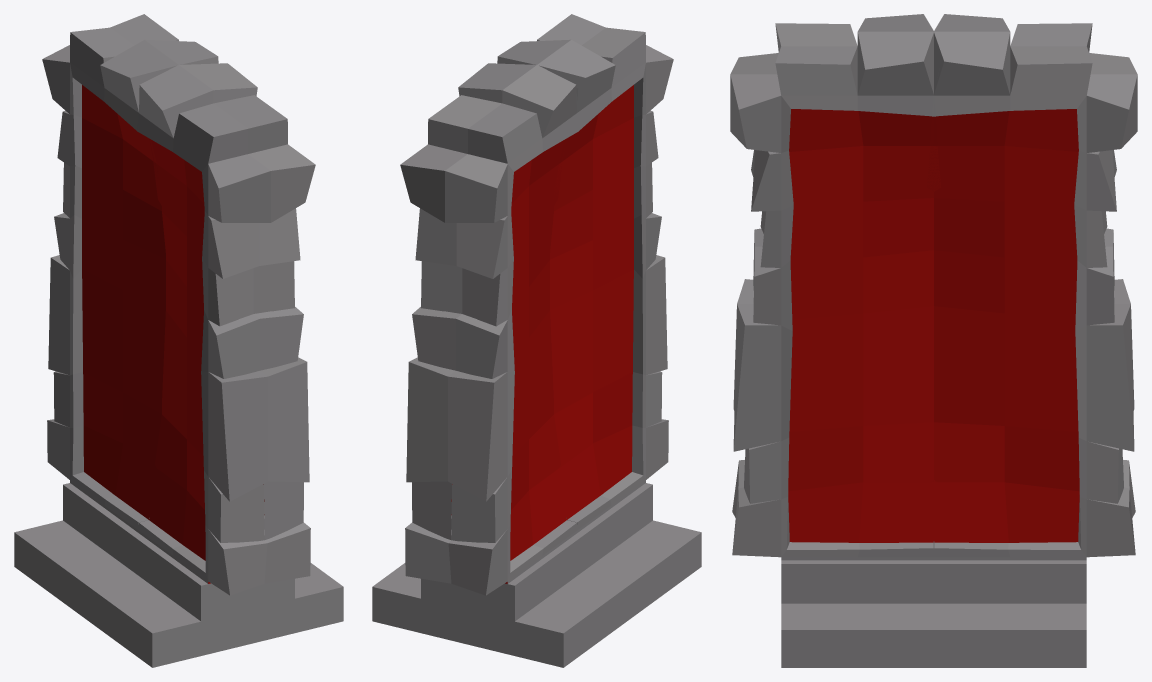
Rendered from Portal.glb.
The picture shows the model from 3 angles, left to right: view 1: azimuth 30°, elevation 25°; view 2: azimuth 150°, elevation 25°; view 3: azimuth 270°, elevation 25°; orthographic projection. The views are drawn at different scales.
Visible parts, largest first — view 1: Portal; view 2: Portal; view 3: Portal.
Boxes of the visible parts, x1=… form: Portal: x1=14, y1=14, x2=343, y2=667; Portal: x1=372, y1=14, x2=701, y2=667; Portal: x1=730, y1=14, x2=1137, y2=667.
Size of the model in its own units: 4.79 by 12.67 by 8.
